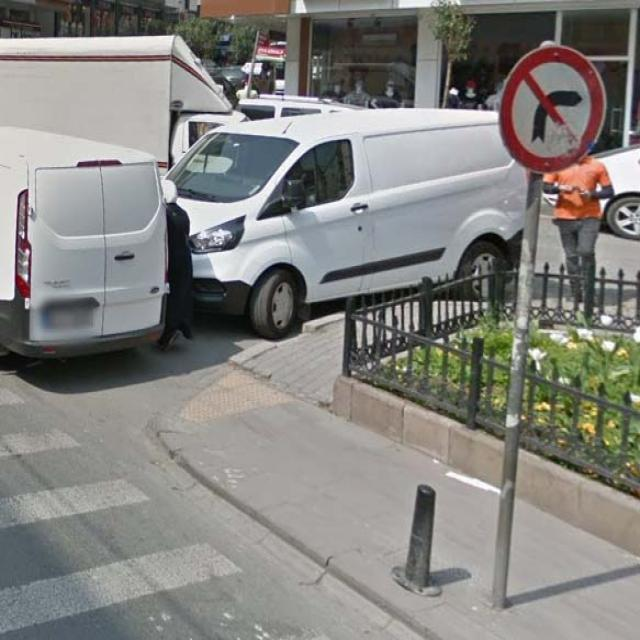sagadonulmez: (499, 45, 605, 173)
